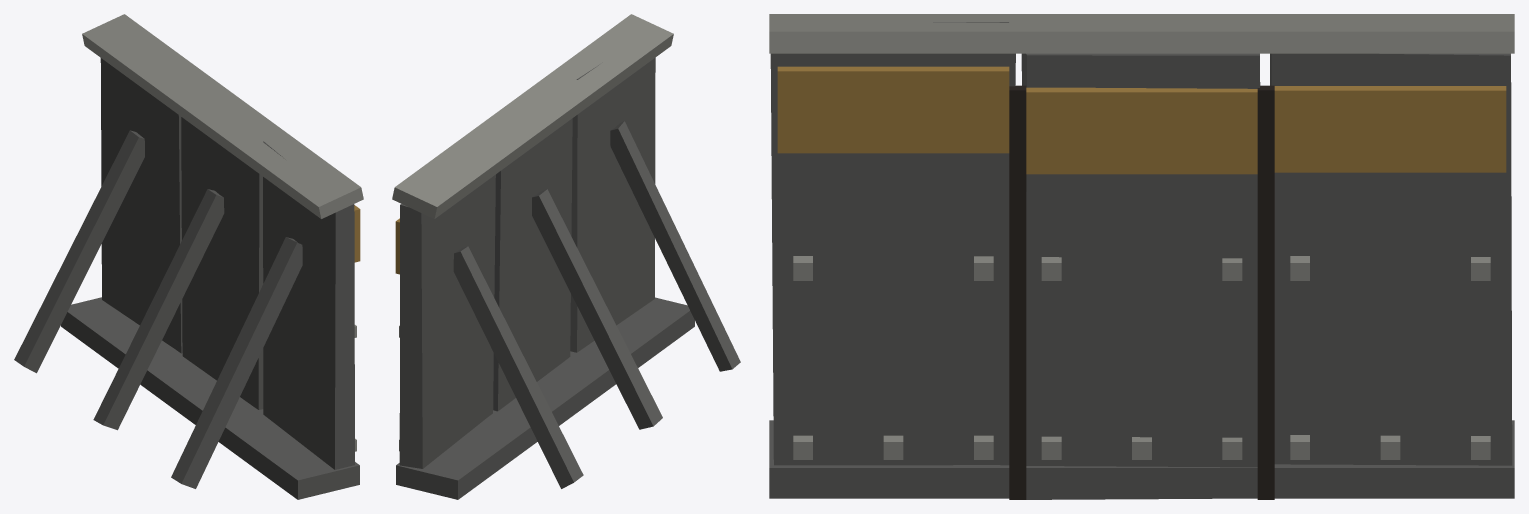
File: arm_plates.glb
The picture shows the model from 3 angles, left to right: view 1: azimuth 30°, elevation 25°; view 2: azimuth 150°, elevation 25°; view 3: azimuth 270°, elevation 25°; orthographic projection. The views are drawn at different scales.
Parts seen in each view (by area): view 1: arm_plates; view 2: arm_plates; view 3: arm_plates.
Boxes of the visible parts, x1,y1,x2,y2 form: arm_plates: [14, 14, 363, 499]; arm_plates: [392, 14, 740, 499]; arm_plates: [769, 14, 1514, 499].
Size of the model in its own units: 0.4799 by 0.9219 by 1.32.
